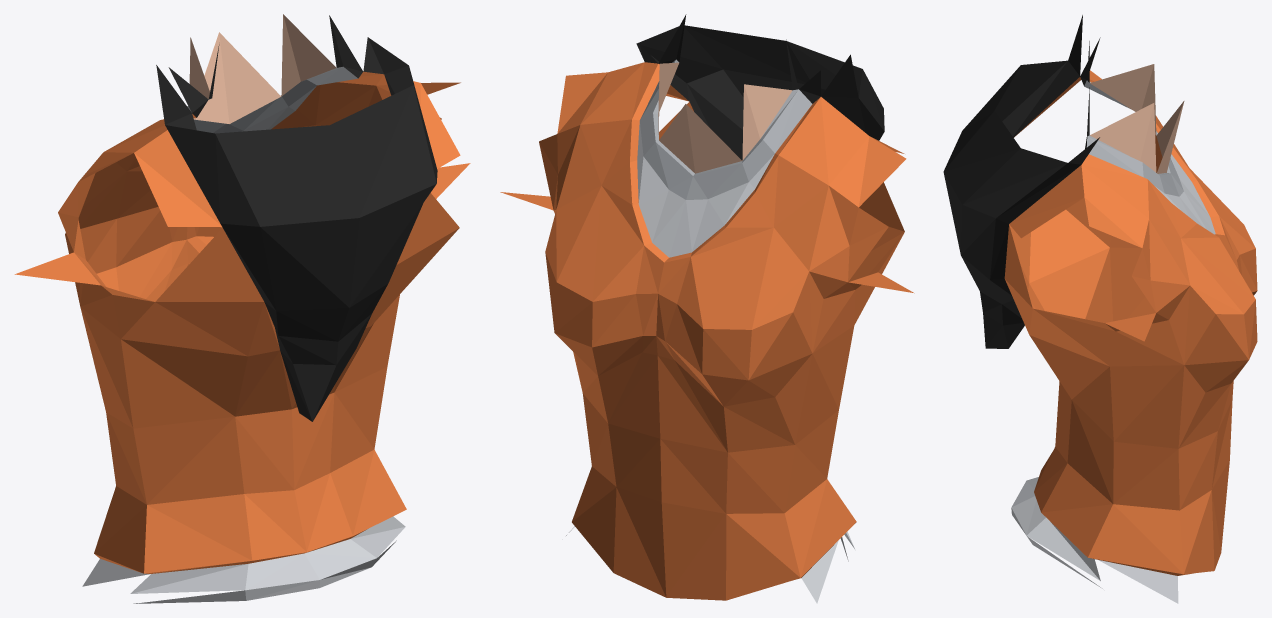
The model's file is Torso.obj.
3 views of the same model, side by side, from view 1: azimuth 30°, elevation 25°; view 2: azimuth 150°, elevation 25°; view 3: azimuth 270°, elevation 25° (orthographic). The views are drawn at different scales.
Bounding box in the file's own units: 0.5319 × 0.6365 × 0.3688.
Materials: 1 (1 with a texture image).
